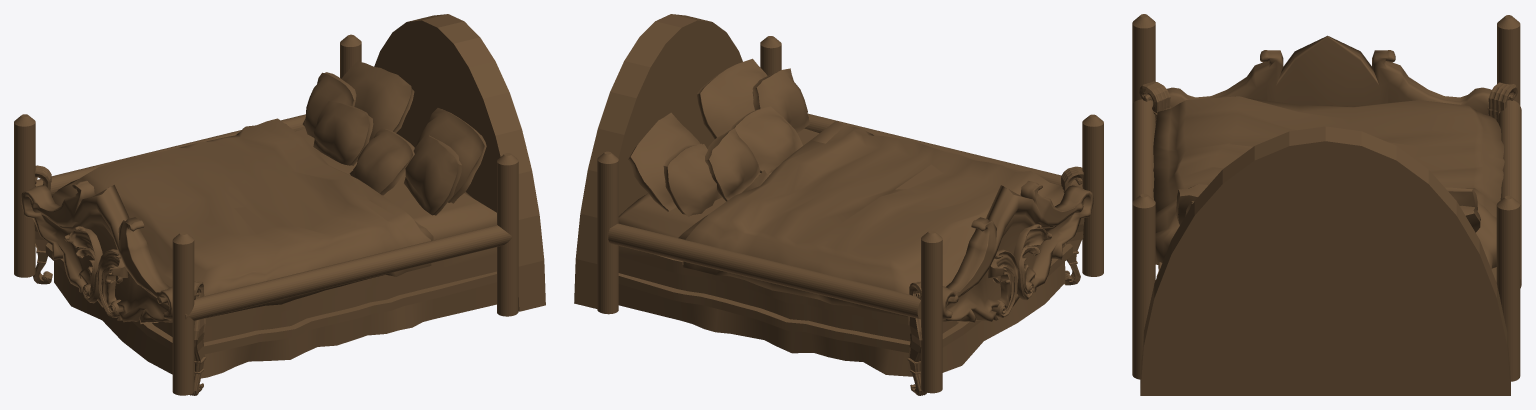
The model's file is yatak (1).fbx.
3 views of the same model, side by side, from view 1: azimuth 30°, elevation 25°; view 2: azimuth 150°, elevation 25°; view 3: azimuth 270°, elevation 25° (orthographic). The views are drawn at different scales.
Parts seen in each view (by area): view 1: camaDormitorio_0008:camaPrincipal, camaDormitorio_0008:cabecero2, adornoParedDerecho2, adornoParedIzquierdo2, moldurasArmario9, moldurasArmario10; view 2: camaDormitorio_0008:camaPrincipal, camaDormitorio_0008:cabecero2, adornoParedIzquierdo2, adornoParedDerecho2, moldurasArmario10, moldurasArmario9; view 3: camaDormitorio_0008:camaPrincipal, camaDormitorio_0008:cabecero2, moldurasArmario10, moldurasArmario9.
Part boxes in pixels (<box>): camaDormitorio_0008:camaPrincipal: <box>14,14,545,395</box>; camaDormitorio_0008:cabecero2: <box>21,180,172,323</box>; adornoParedDerecho2: <box>97,249,128,317</box>; adornoParedIzquierdo2: <box>64,226,102,303</box>; moldurasArmario9: <box>189,281,205,395</box>; moldurasArmario10: <box>33,165,52,284</box>; camaDormitorio_0008:camaPrincipal: <box>574,14,1103,393</box>; camaDormitorio_0008:cabecero2: <box>942,181,1093,323</box>; adornoParedIzquierdo2: <box>988,249,1018,317</box>; adornoParedDerecho2: <box>1013,224,1051,300</box>; moldurasArmario10: <box>907,281,926,395</box>; moldurasArmario9: <box>1061,166,1084,285</box>; camaDormitorio_0008:camaPrincipal: <box>1132,14,1521,395</box>; camaDormitorio_0008:cabecero2: <box>1167,35,1491,114</box>; moldurasArmario10: <box>1487,82,1517,122</box>; moldurasArmario9: <box>1139,81,1171,124</box>.
Bounding box in the file's own units: 1267 × 751 × 996.
